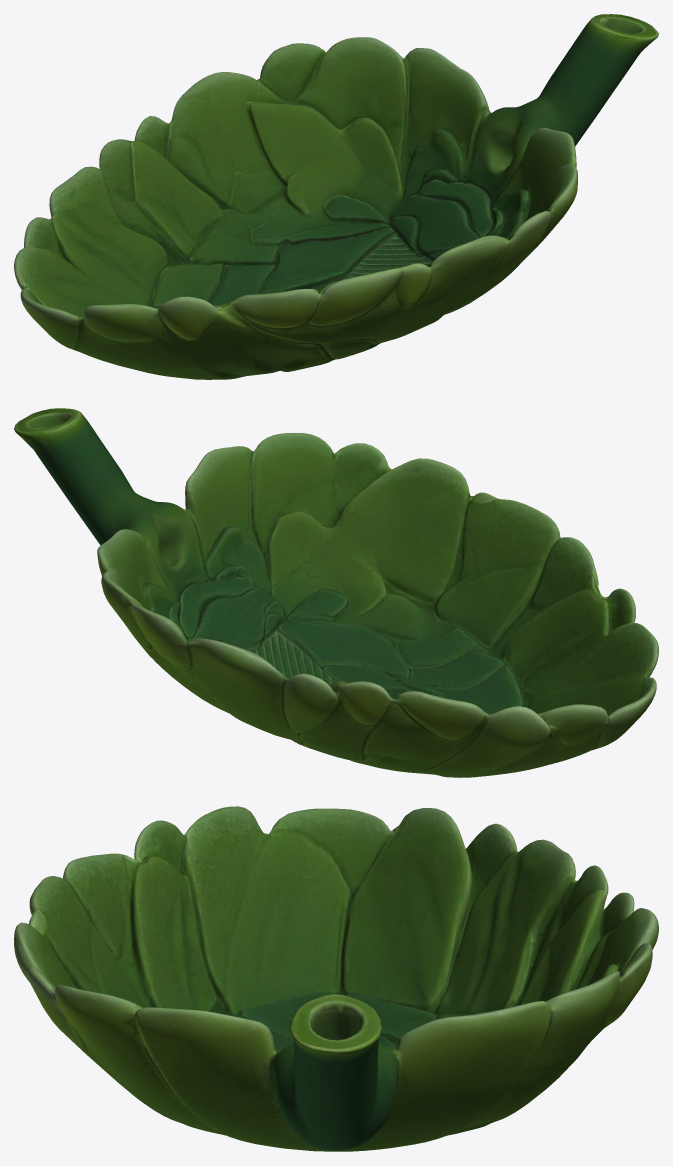
The model's file is 碧玉痕都斯坦风格 荷花式吸杯.glb.
The picture shows the model from 3 angles, top to bottom: view 1: azimuth 30°, elevation 25°; view 2: azimuth 150°, elevation 25°; view 3: azimuth 270°, elevation 25°; orthographic projection. The views are drawn at different scales.
Parts seen in each view (by area): view 1: tripo_node_24de39dd; view 2: tripo_node_24de39dd; view 3: tripo_node_24de39dd.
Boxes of the visible parts, bbox=[...] form: tripo_node_24de39dd: bbox=[14, 14, 658, 379]; tripo_node_24de39dd: bbox=[14, 408, 658, 777]; tripo_node_24de39dd: bbox=[14, 806, 658, 1151].
Bounding box in the file's own units: 97.93 × 36.24 × 65.65.
1 material, 1 textured.
